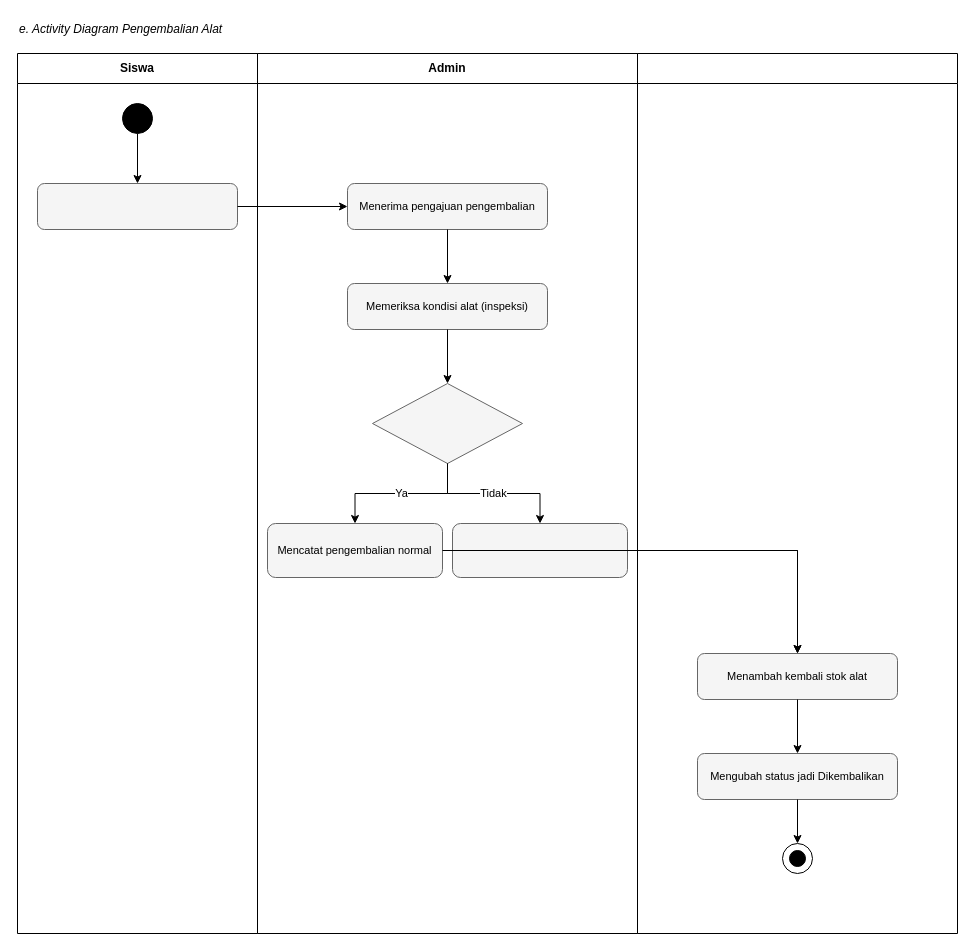
This 975x951 diagram has some shape labels left out. The box of each missing label's shape, as (x1, y1, x2, y2) in pixels:
Alat baik & lengkap?: (372, 382, 522, 464)
Mencatat kerusakan & tandai kompensasi: (452, 522, 628, 578)
Mengajukan pengembalian alat: (36, 182, 238, 230)
Sistem: (636, 52, 958, 934)
